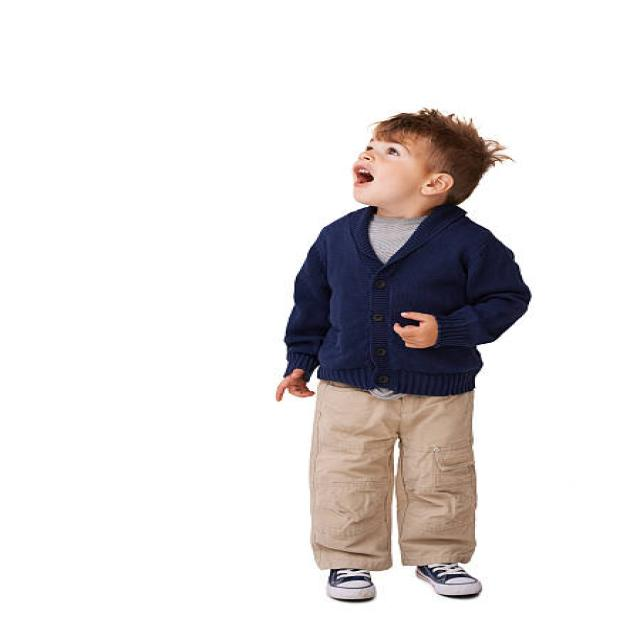Edited images: (258, 98, 580, 616)
